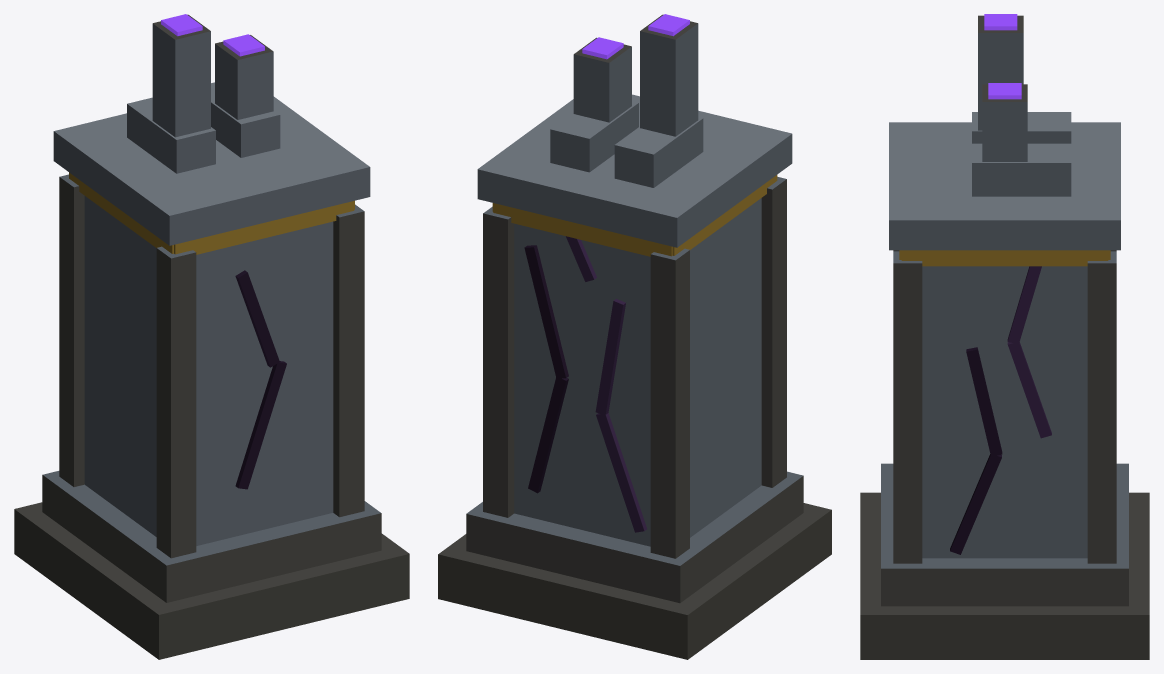
File: statue-base.glb
3 views of the same model, side by side, from view 1: azimuth 30°, elevation 25°; view 2: azimuth 150°, elevation 25°; view 3: azimuth 270°, elevation 25° (orthographic).
Visible parts, largest first — view 1: StatueBase; view 2: StatueBase; view 3: StatueBase.
Boxes of the visible parts, x1,y1,x2,y2 form: StatueBase: [14, 14, 409, 659]; StatueBase: [438, 14, 831, 659]; StatueBase: [860, 14, 1149, 659].
Bounding box in the file's own units: 0.7 × 1.5 × 0.7.
1 material, 1 textured.
